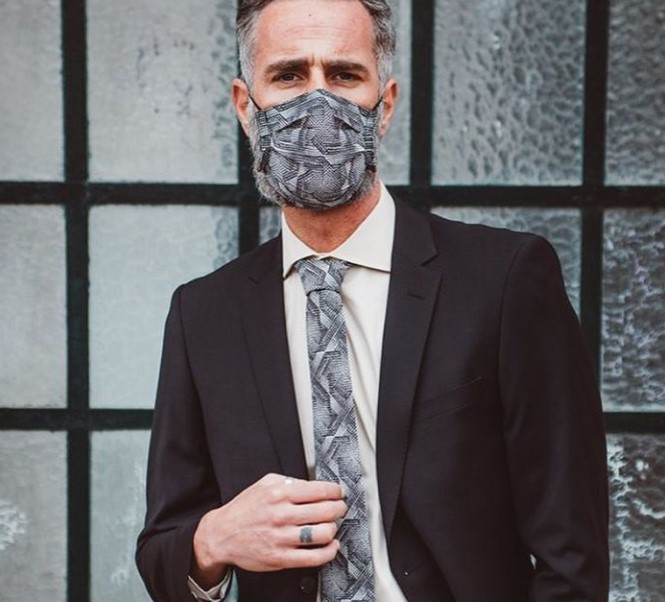face_with_mask: (224, 3, 401, 218)
